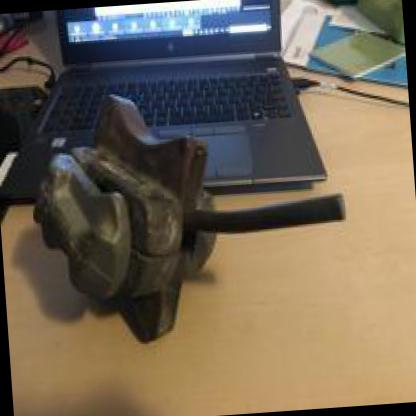Twistlock: (23, 72, 359, 362)
